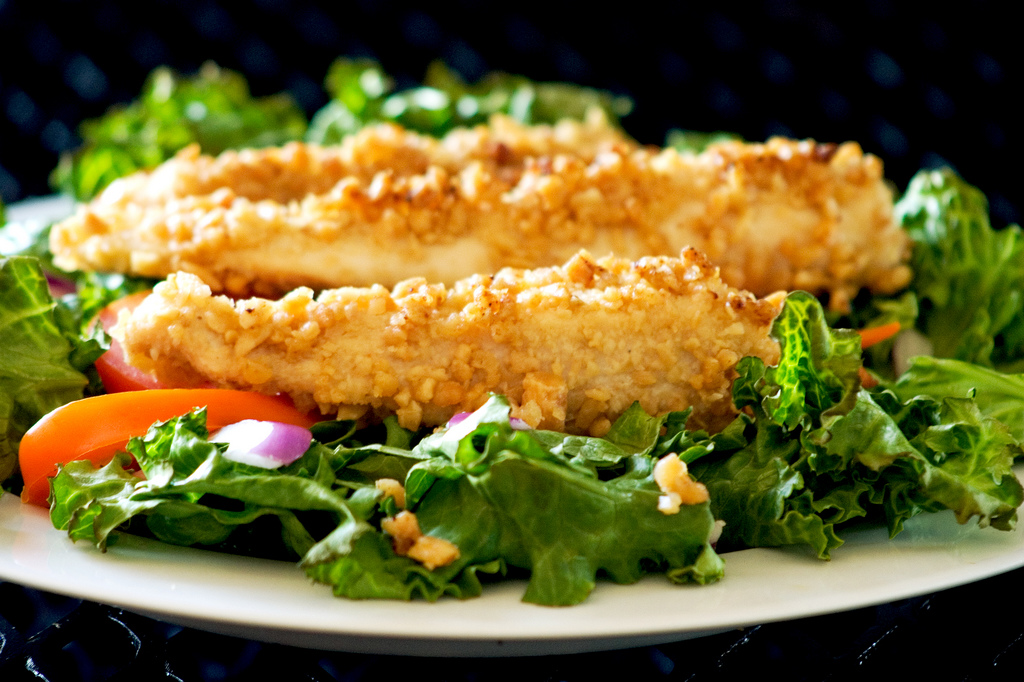chopped lettuce: (160, 428, 658, 602), (768, 387, 1001, 505)
slice of bread: (101, 159, 868, 264)
